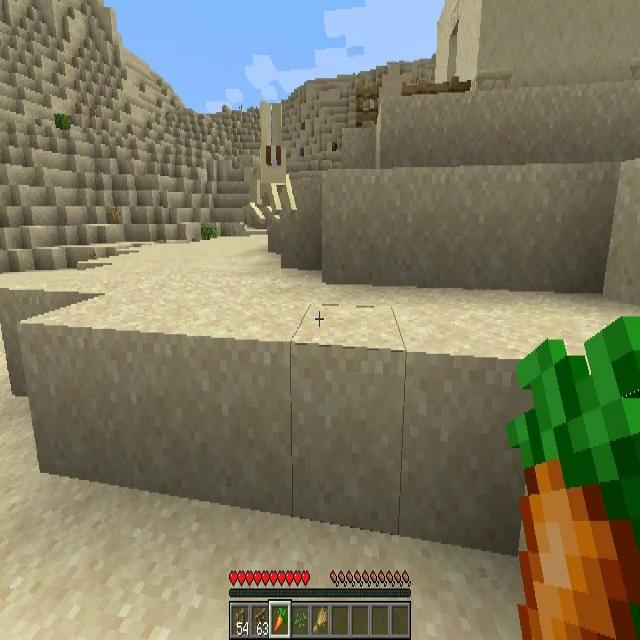rabbit: (252, 101, 296, 219)
